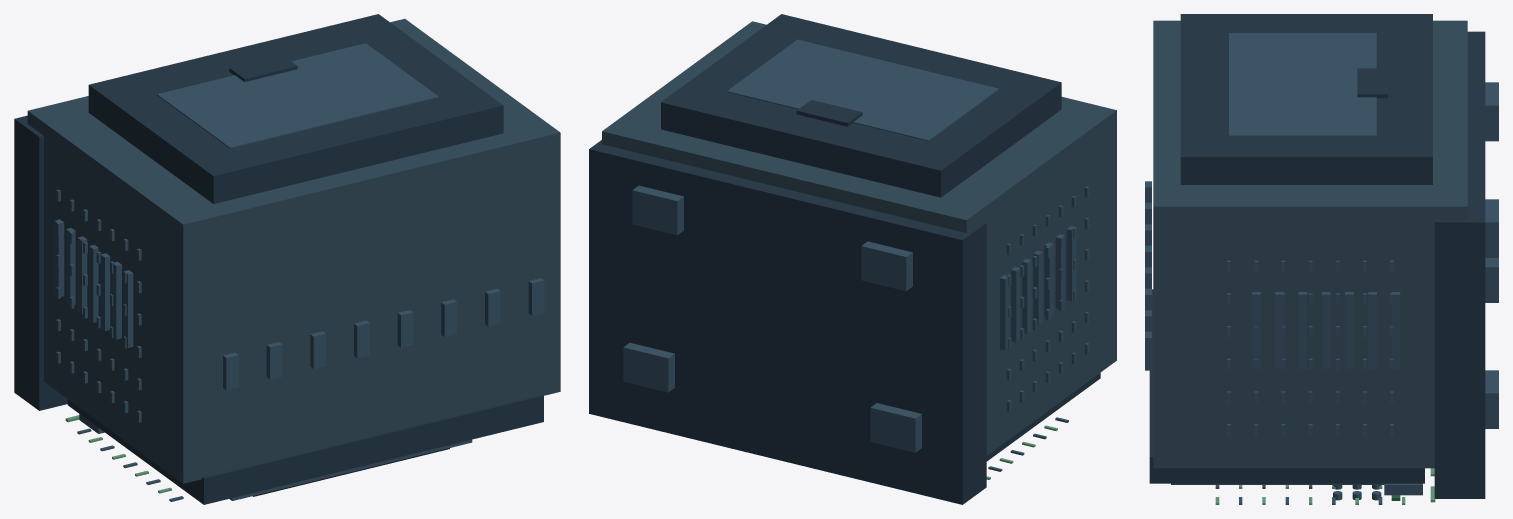
File: crt_tv.glb
3 renders of one model, left to right at view 1: azimuth 30°, elevation 25°; view 2: azimuth 150°, elevation 25°; view 3: azimuth 270°, elevation 25°, orthographic. The views are drawn at different scales.
Visible parts, largest first — view 1: crt_tv; view 2: crt_tv; view 3: crt_tv.
Part boxes in pixels (x1,y1,x2,y2): crt_tv: (14,14,560,504); crt_tv: (589,14,1116,504); crt_tv: (1145,14,1498,504).
Size of the model in its own units: 0.7 by 0.58 by 0.54.
